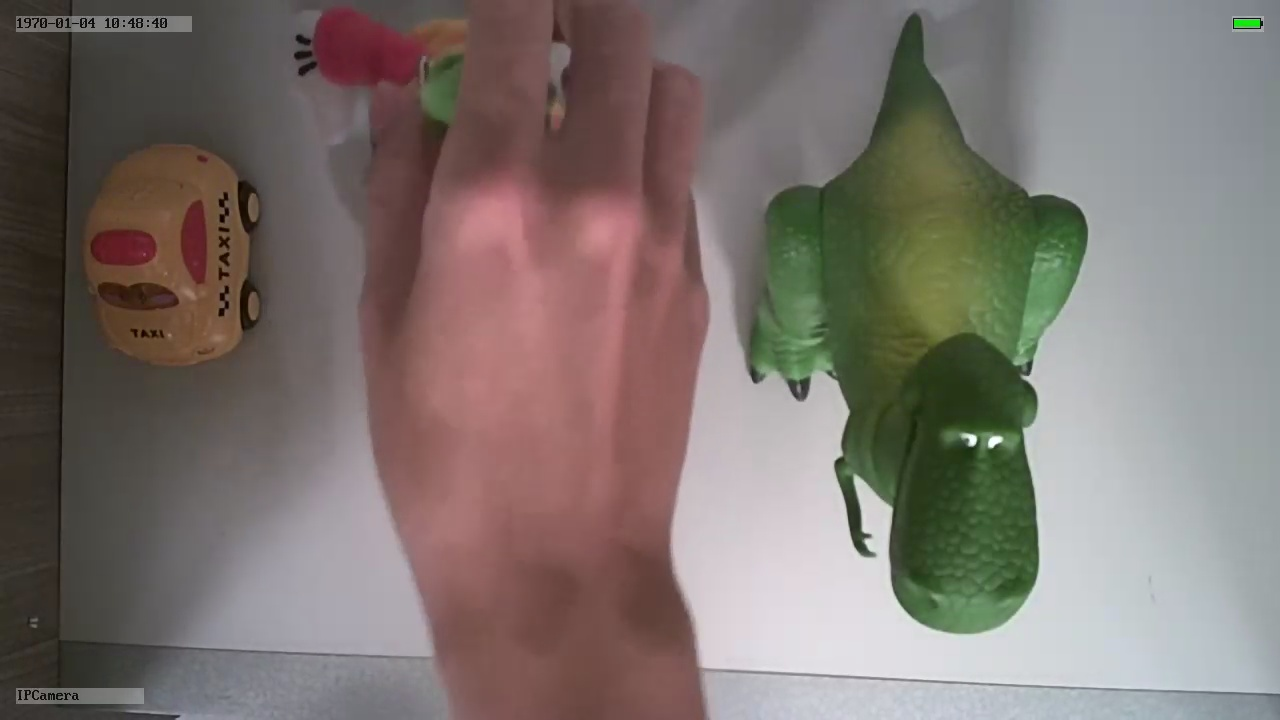car: (81, 135, 268, 371)
rex: (749, 99, 1091, 634)
